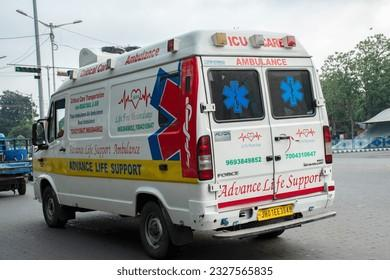ambulance: (35, 33, 341, 246)
